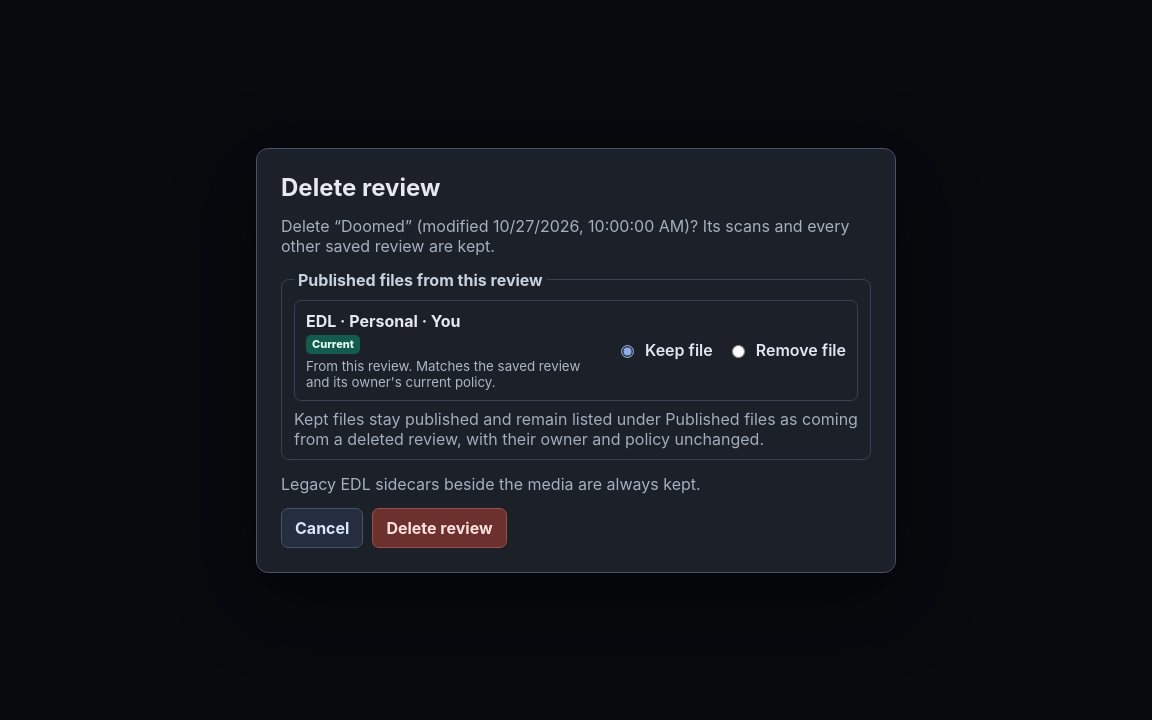
reloads a stale preview, keeps still-valid choices, and deletes only after a fresh confirmation
Later steps or results of the test are not shown.
Step 1. Click the radio button labelled "Remove file" → (738, 352), box [732,345,745,358]
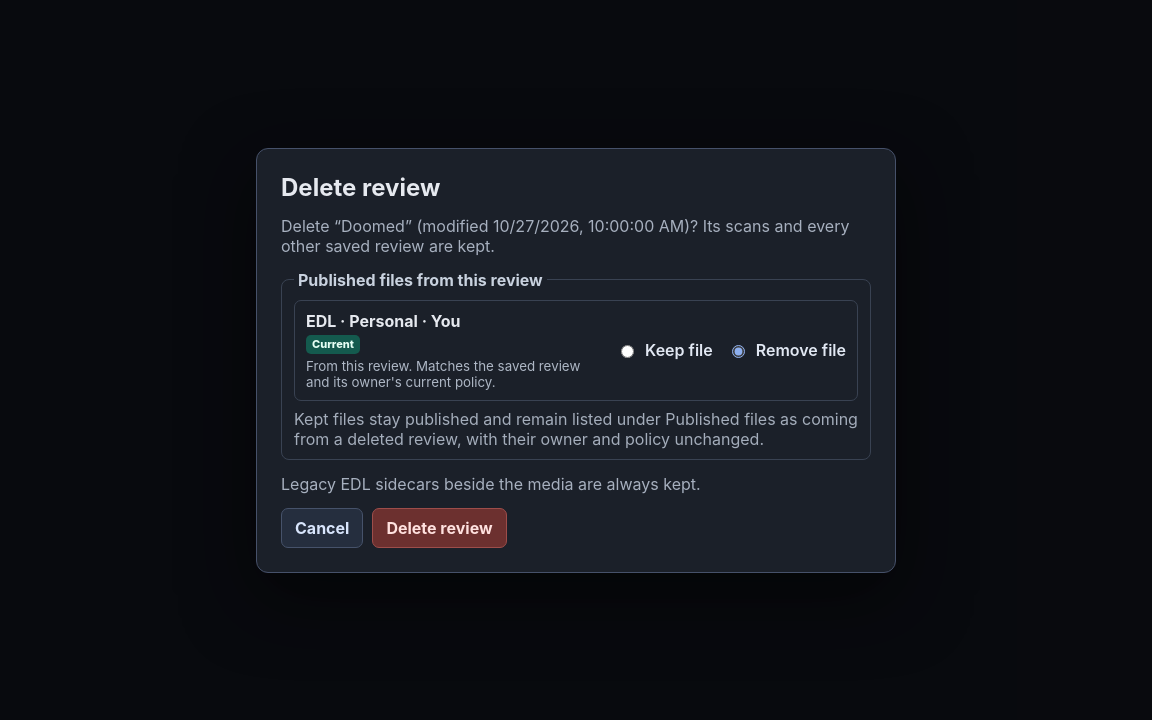
Step 2. Click the button "Delete review" → (440, 528), box [372,508,507,548]
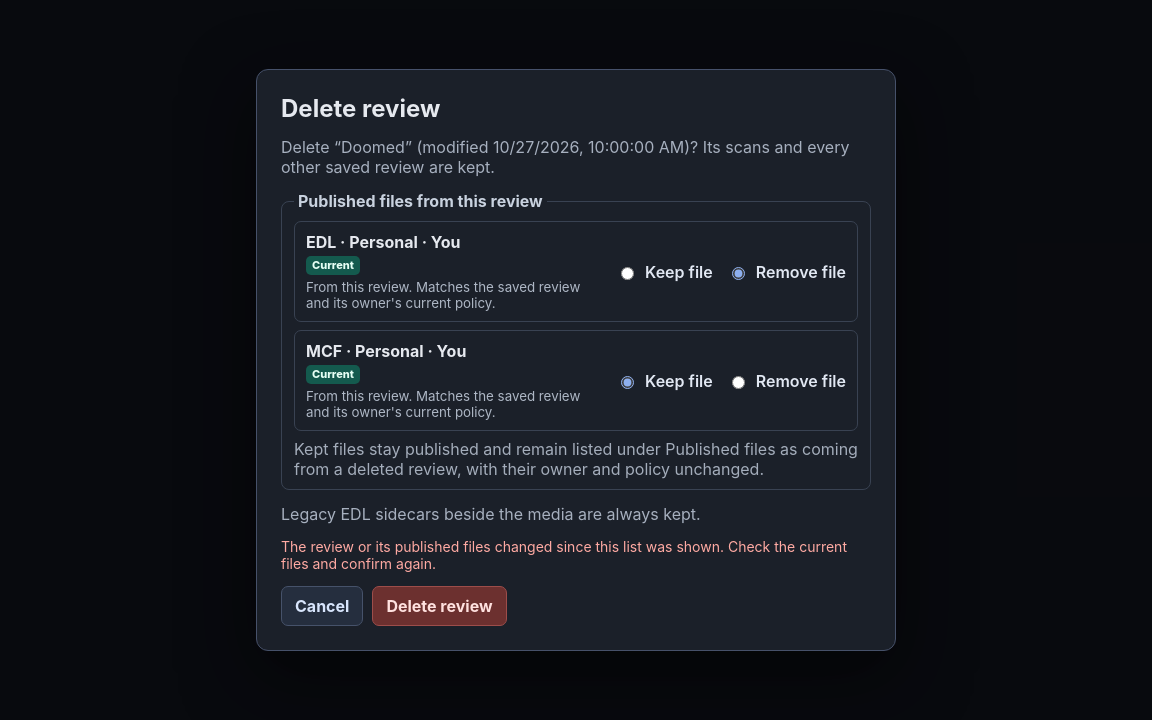
Now the 1st radio button labelled "Remove file" is checked, box [732,266,745,280]
Now the message shows "changed since this list was shown", box [281,538,847,572]
Now the radio button labelled "Keep file" below "MCF · Personal · You" is checked, box [621,376,634,388]
